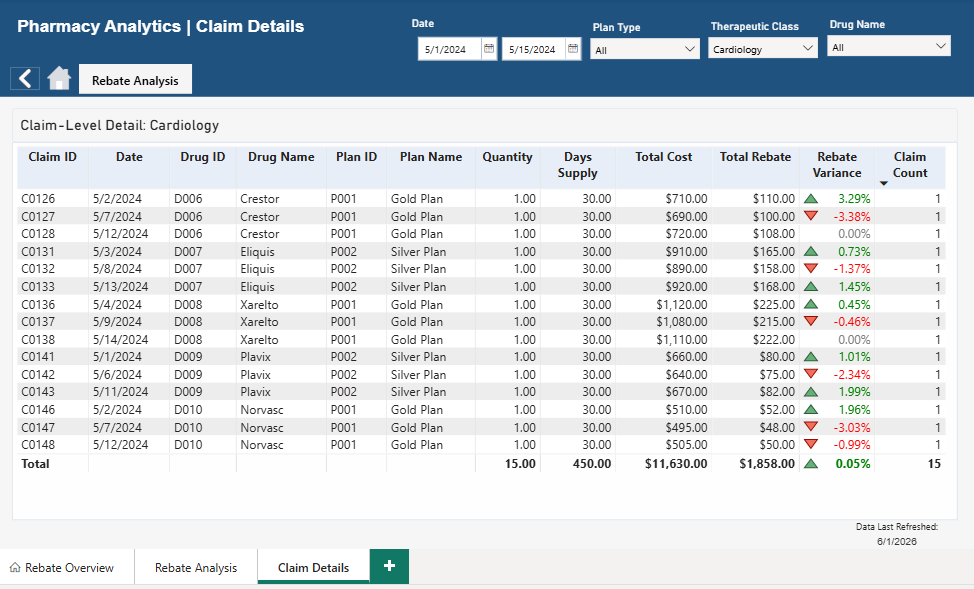

The dashboard page shown, as its layout file describes it:
{"tool":"powerbi","page":{"name":"Claim Details","canvas":[1280,720],"ordinal":2},"visuals":[{"type":"card","title":"Data Last Refreshed:","fields":{"Values":["Min(RefreshDate.RefreshDate)"]},"box":[1094.4,682.6,159.8,37.4],"z":0},{"type":"tableEx","fields":{"Values":["Claims.Claim_ID","Claims.Date","Claims.Drug_ID","Drugs.Drug_Name","Claims.Plan_ID","Plans.Plan_Name","Sum(Claims.Quantity)","Sum(Claims.Days_Supply)","Claims.Total Cost","Claims.Total Rebate","Claims.Rebate Variance %","select"]},"box":[15.8,187.2,1238.4,495.4],"z":1000},{"type":"shape","box":[0,0,1280.2,128.2],"z":2000},{"type":"image","box":[53.3,82.1,47.5,41.8],"z":3000},{"type":"slicer","fields":{"Values":["Drugs.Drug_Name"]},"box":[1073.2,20.2,181.1,57.6],"z":4000},{"type":"slicer","fields":{"Values":["Drugs.Therapeutic_Class"]},"box":[917.3,21.6,162.7,59],"z":5000},{"type":"slicer","fields":{"Values":["Plans.Plan_Type"]},"box":[763.2,23,162.7,60.5],"z":6000},{"type":"slicer","title":"Date","fields":{"Values":["Claims.Date"]},"box":[534.2,23,234.7,60.5],"z":7000},{"type":"actionButton","box":[15.8,146.9,1238.4,33.1],"z":8000},{"type":"image","box":[13,89.3,38.9,30.2],"z":9000},{"type":"group","id":"g1","title":"Group 13","box":[104.3,83.7,153,40.4],"z":10000},{"type":"actionButton","box":[104.3,83.7,152.8,38.9],"z":17000,"group":"g1"},{"type":"actionButton","box":[104.3,85.1,153,39],"z":18000,"group":"g1"}]}

Visuals, with their boxes on the page's 1280x720 design canvas (x1, y1, x2, y2). These are canvas units, not pixel positions in the 974x589 screenshot, which may show the page scaled, cropped or inside an application window:
"Data Last Refreshed:" card: bbox=[1094, 683, 1254, 720]
tableEx - Claims.Claim_ID x Claims.Date: bbox=[16, 187, 1254, 683]
shape: bbox=[0, 0, 1280, 128]
image: bbox=[53, 82, 101, 124]
slicer - Drugs.Drug_Name: bbox=[1073, 20, 1254, 78]
slicer - Drugs.Therapeutic_Class: bbox=[917, 22, 1080, 81]
slicer - Plans.Plan_Type: bbox=[763, 23, 926, 84]
"Date" slicer: bbox=[534, 23, 769, 84]
actionButton: bbox=[16, 147, 1254, 180]
image: bbox=[13, 89, 52, 120]
"Group 13" group: bbox=[104, 84, 257, 124]
actionButton: bbox=[104, 84, 257, 123]
actionButton: bbox=[104, 85, 257, 124]
